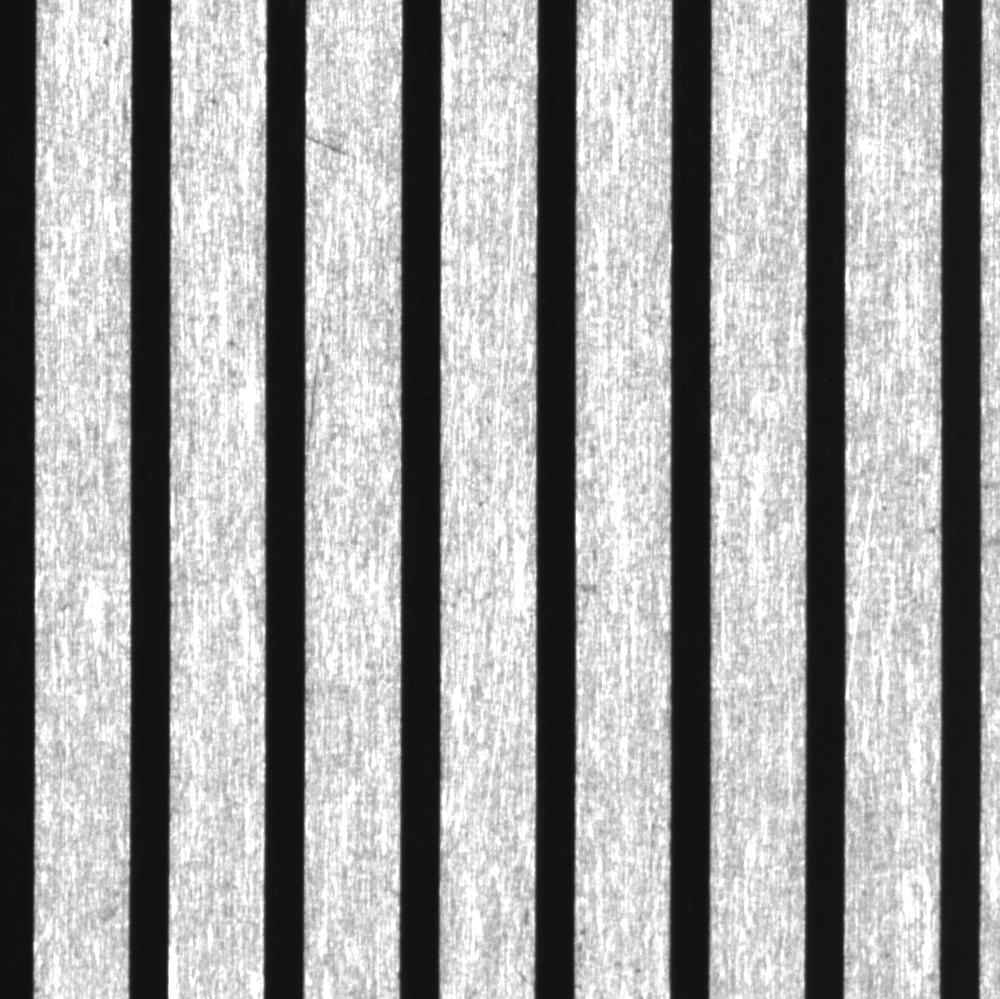Etching: (90, 17, 125, 59)
Scar: (307, 120, 372, 175), (305, 312, 327, 465)
